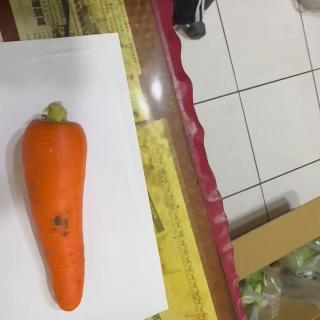carrot: (21, 99, 89, 314)
